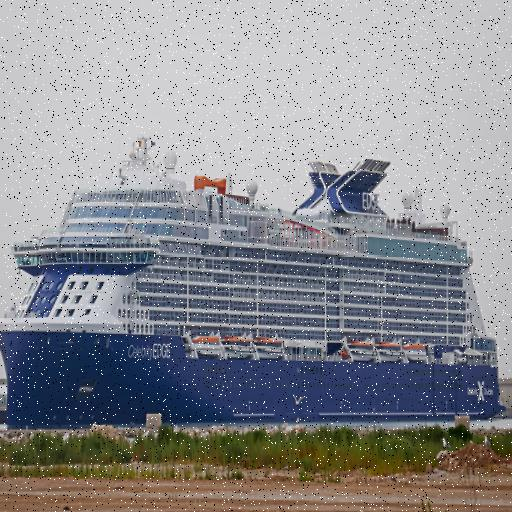cruises: (1, 130, 507, 425)
